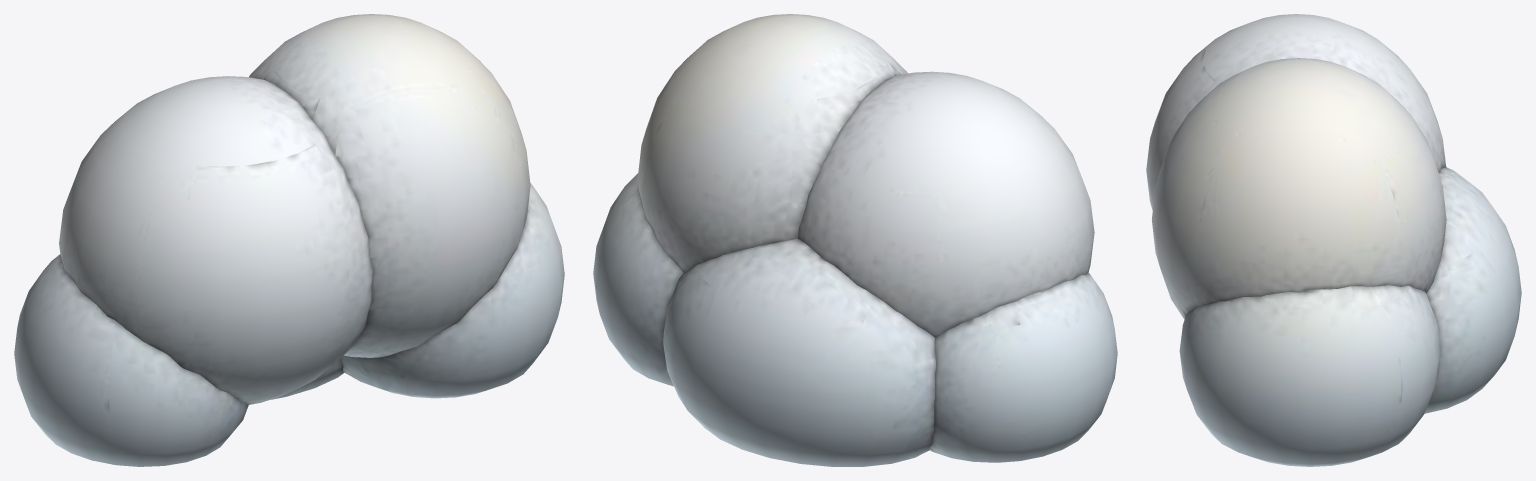
3 renders of one model, left to right at view 1: azimuth 30°, elevation 25°; view 2: azimuth 150°, elevation 25°; view 3: azimuth 270°, elevation 25°, orthographic. The views are drawn at different scales.
Visible parts, largest first — view 1: Soft_cloud_white; view 2: Soft_cloud_white; view 3: Soft_cloud_white.
Boxes of the visible parts, x1,y1,x2,y2 form: Soft_cloud_white: [14, 14, 564, 466]; Soft_cloud_white: [593, 14, 1117, 466]; Soft_cloud_white: [1146, 14, 1521, 466].
Size of the model in its own units: 1 by 0.6801 by 0.6818.
1 material, 1 textured.
